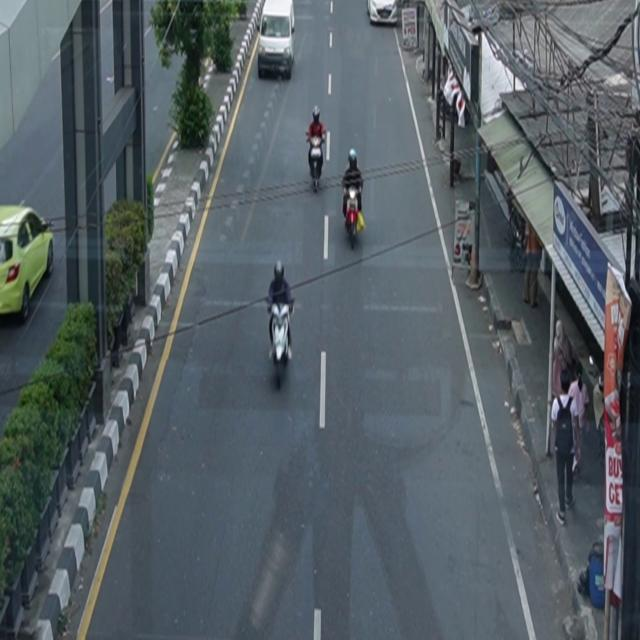car: (1, 202, 55, 324), (257, 1, 296, 80), (367, 1, 398, 26)
